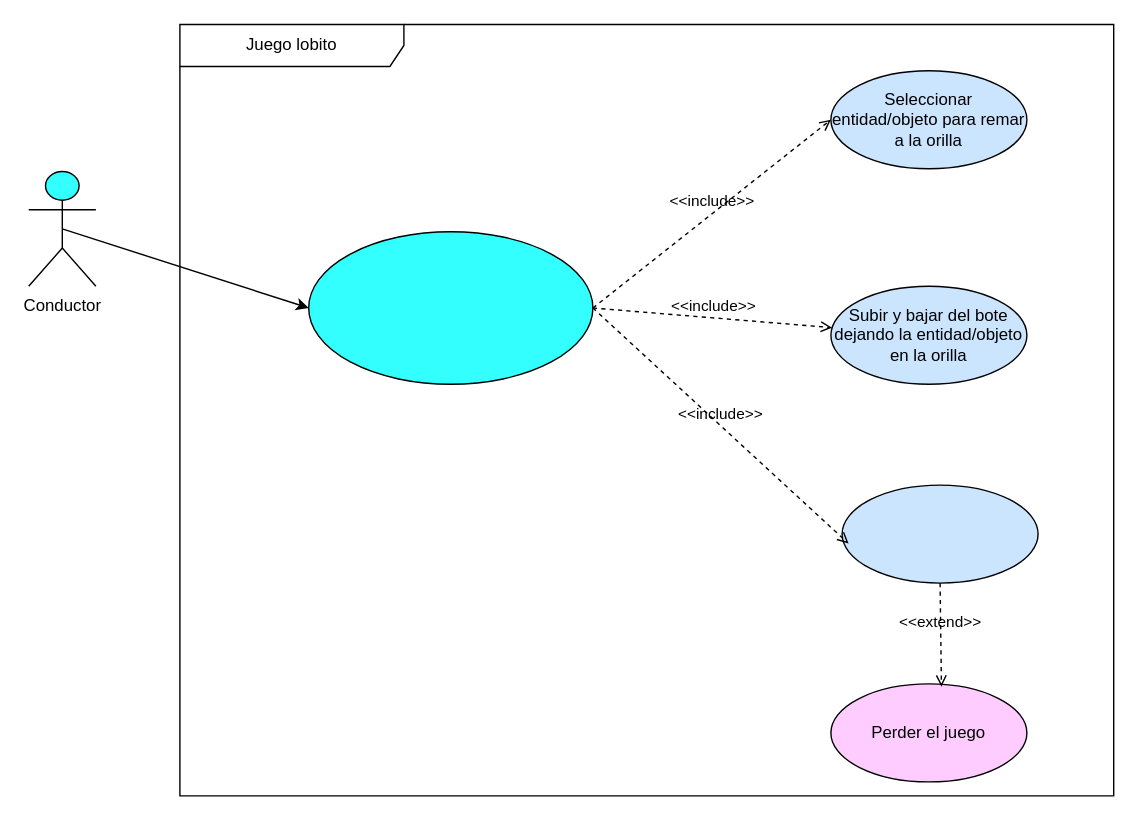
Some shapes in this 1138 by 820 pixel diagram are drawn without their labels. Here are the shapes that lost their labels. From the top down, the centre of each, then its label:
the point at 450,307: Transportar todos al otro lado
the point at 939,533: Comer entidad/objeto de cualquier lado del río
